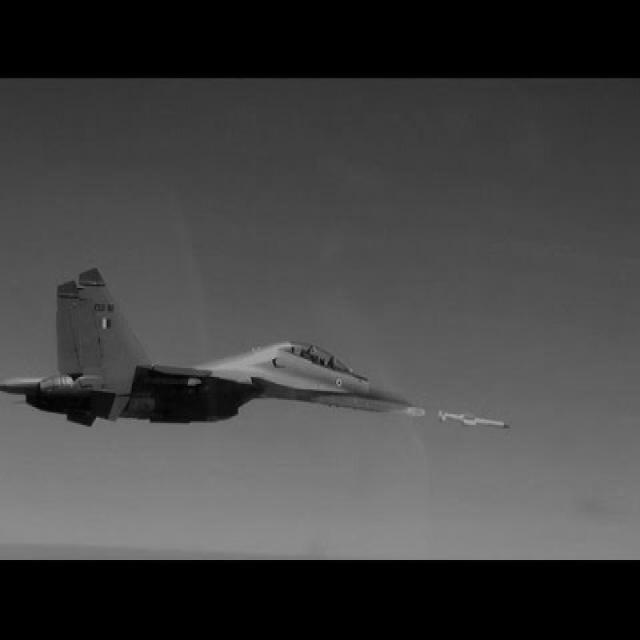missile: (425, 405, 517, 434)
